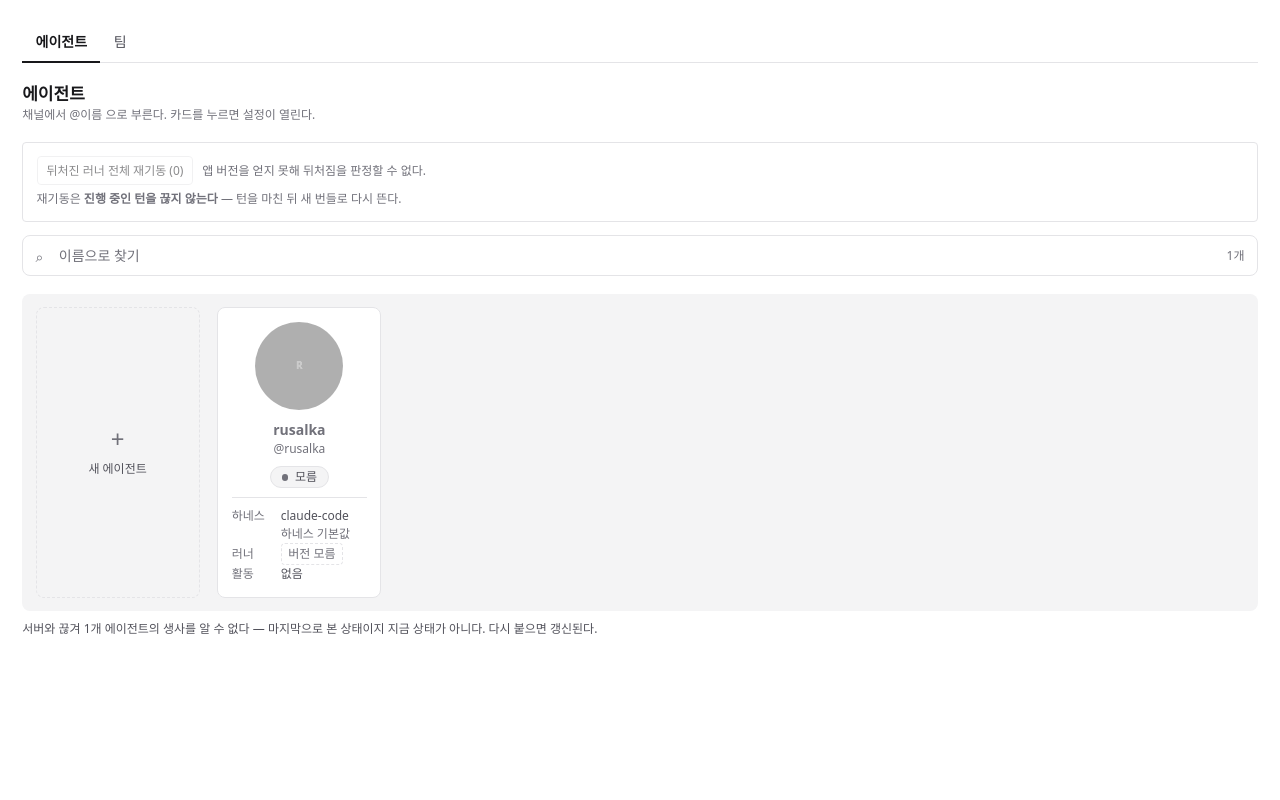
Test case: #251 다시 켠 직후 PAT 가 0개임이 드러난다 › PAT 조회 실패는 "없다"가 아니라 오류로 보인다
Click the button with test id "agent-card-rusalka" at (299, 390), box x1=232 y1=322 x2=367 y2=458
(page scrolled)
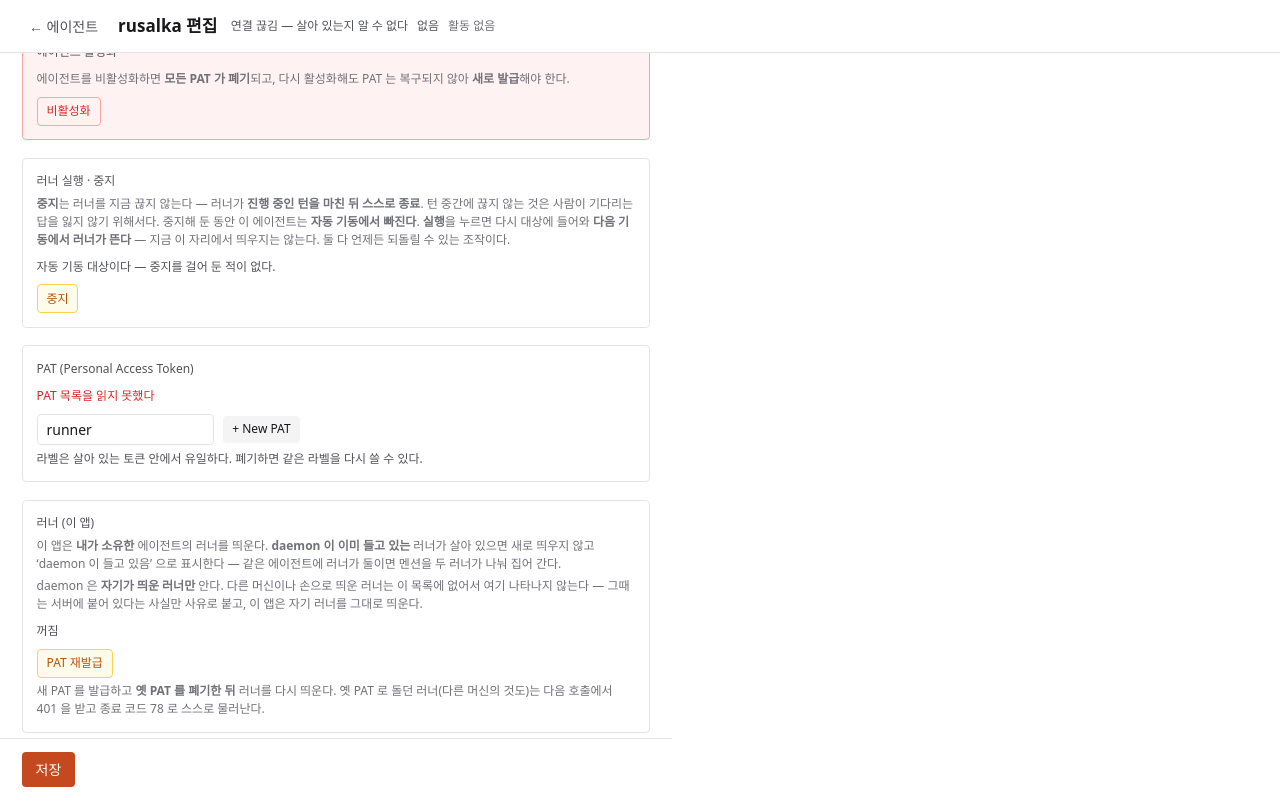
Expected: the message "PAT 목록을 읽지 못했다" is shown, x1=37 y1=387 x2=154 y2=404
